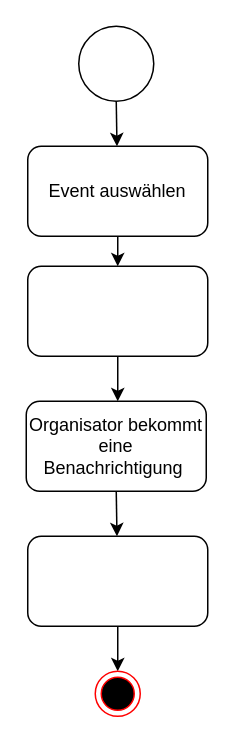
Some shapes in this 234 by 743 pixel diagram are drawn without their labels. The shapes that lost their labels are listed below. From the top down, each one's box as (x1, y1, x2, y2) in pixels, then its label:
(26, 265, 208, 356): Teilnehmeranfrage stellen
(26, 535, 208, 626): Aufnahme/Ablehnung in das Event
